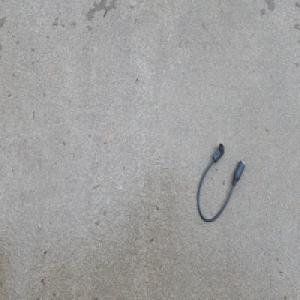Wire: (195, 142, 245, 224)
